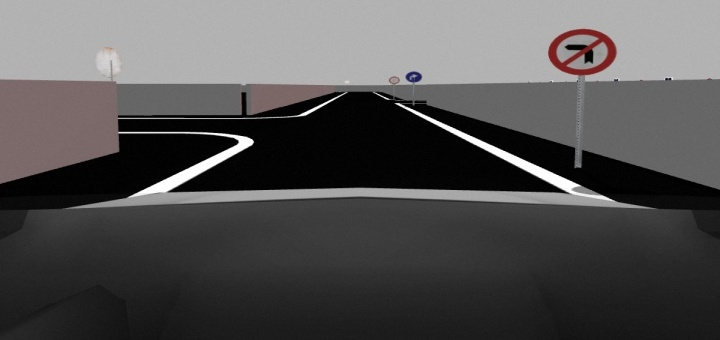sola_donulmez: (547, 25, 619, 77)
